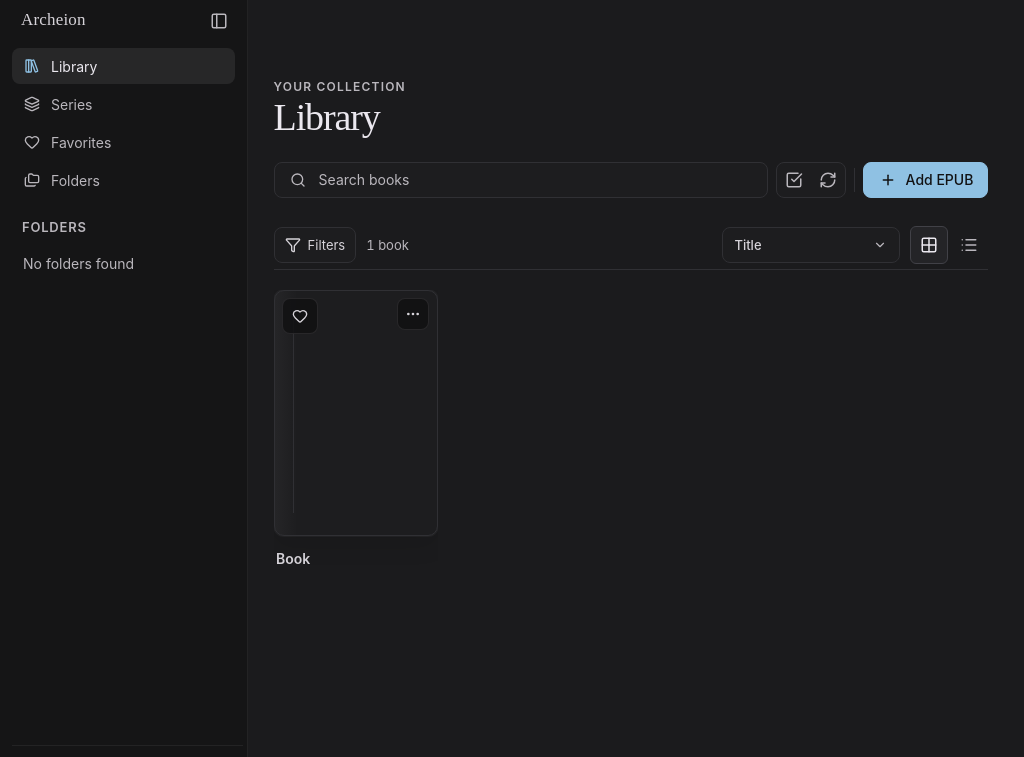
it: LibraryPage dialogs and book actions › shows the EPUB delete dialog when destructive confirmations are enabled
Click the button named "Actions for Book" at (413, 314), box [397,298,429,330]
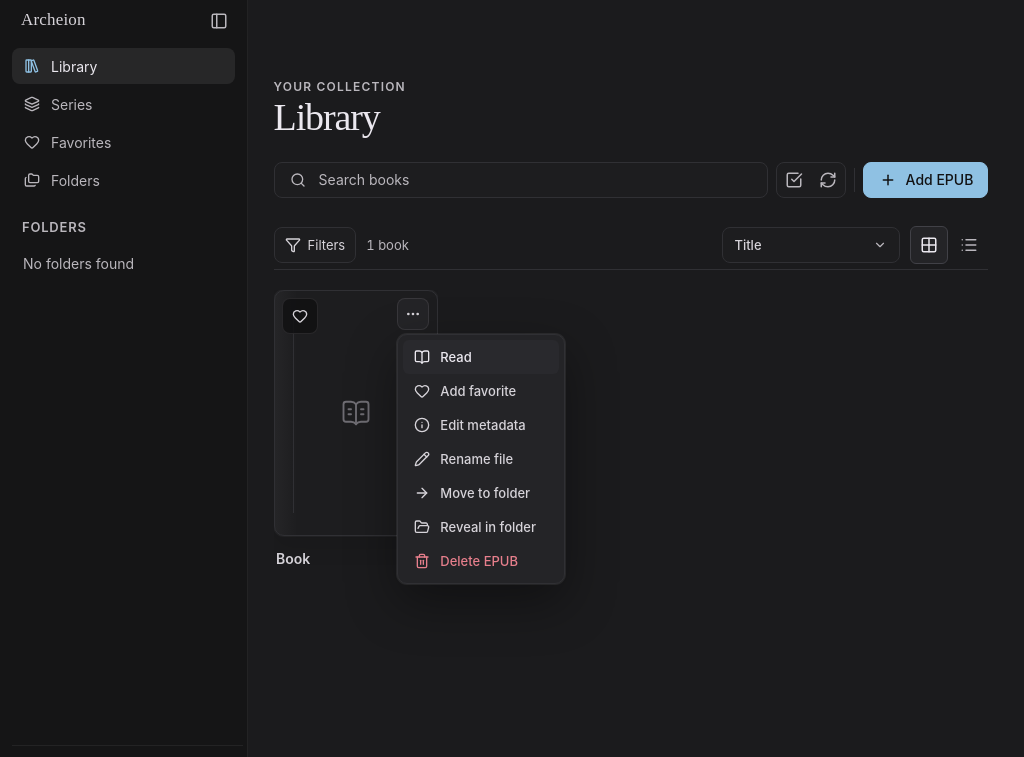
Click the menu item "Delete EPUB" at (481, 561), box [403,544,559,578]
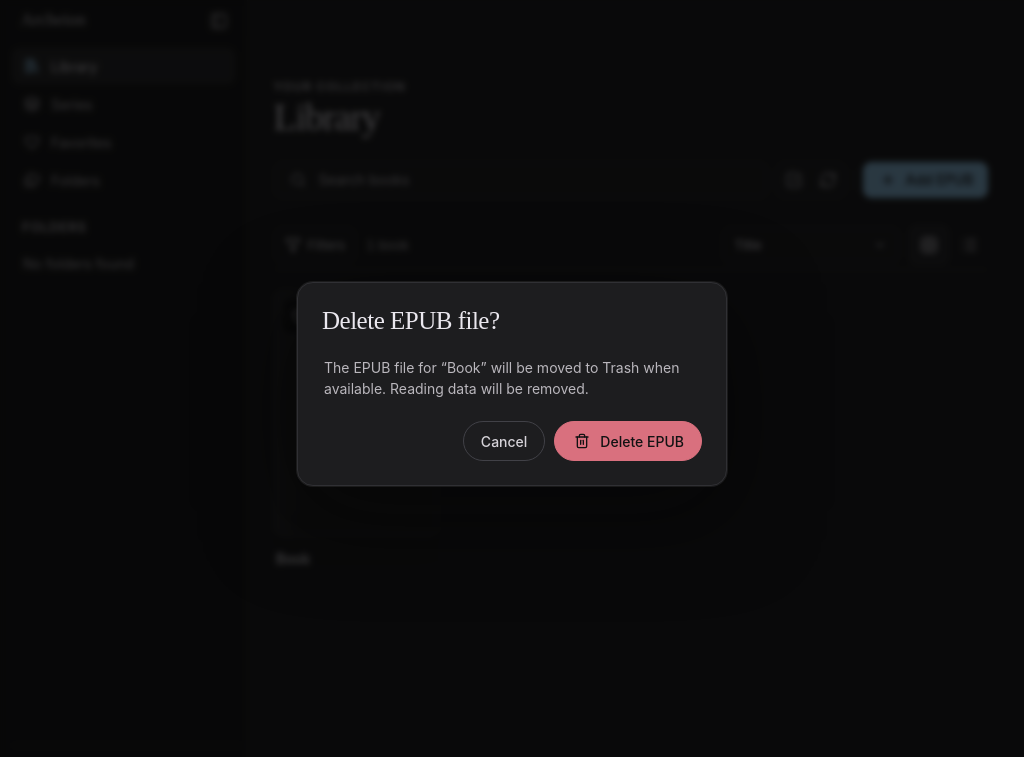
Expected: the text "Delete EPUB file?" is shown, [322,307,500,334]
